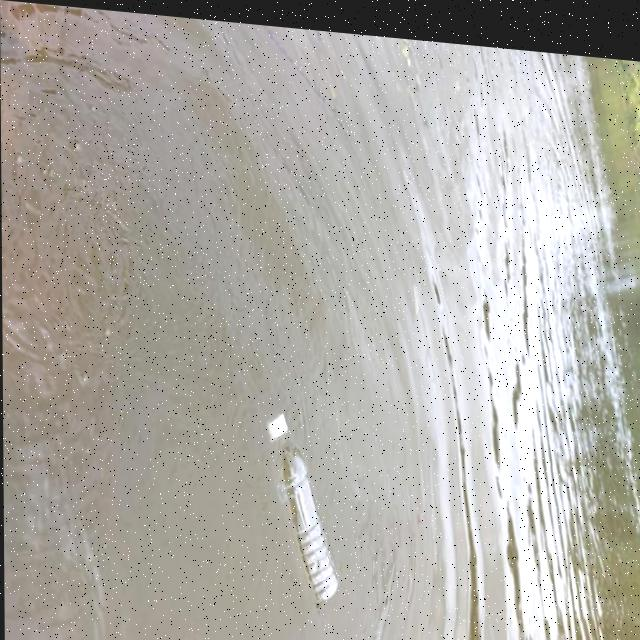waterbottle: (226, 380, 350, 613)
